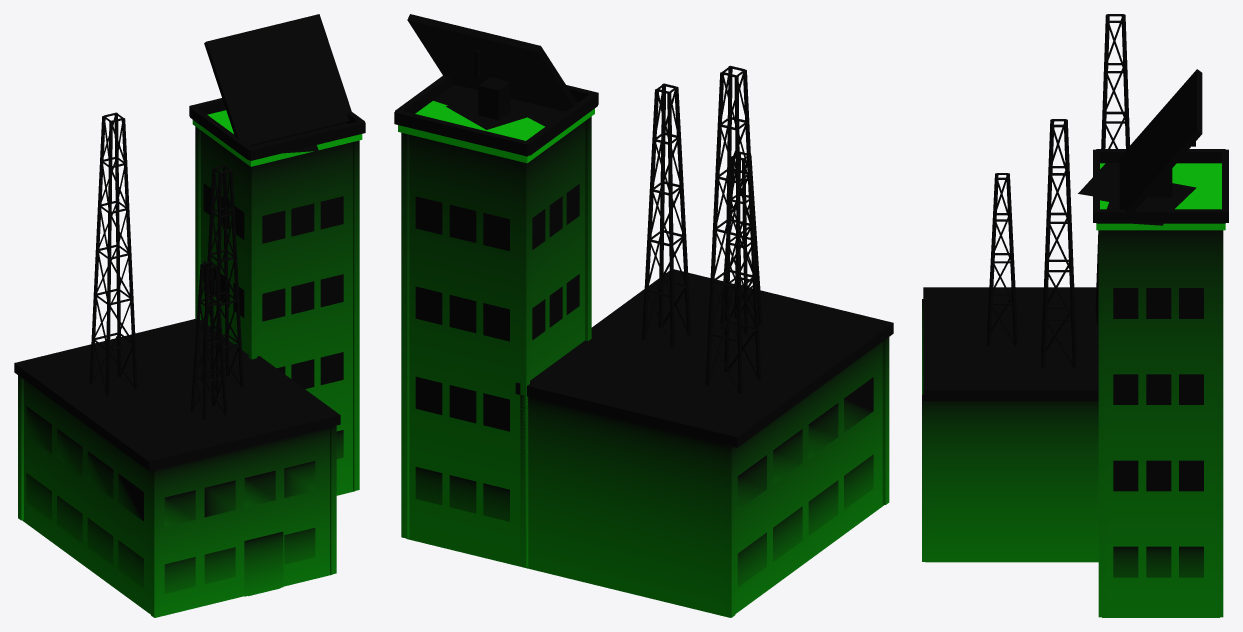
File: d_sensorcontrol.glb
3 renders of one model, left to right at view 1: azimuth 30°, elevation 25°; view 2: azimuth 150°, elevation 25°; view 3: azimuth 270°, elevation 25°, orthographic. The views are drawn at different scales.
Parts seen in each view (by area): view 1: lod0; view 2: lod0; view 3: lod0.
Boxes of the visible parts, x1=… form: lod0: x1=14, y1=14, x2=365, y2=617; lod0: x1=394, y1=14, x2=893, y2=617; lod0: x1=922, y1=14, x2=1228, y2=617.
Size of what is drawn, in the model's own units: 16.84 by 23.95 by 13.55.
